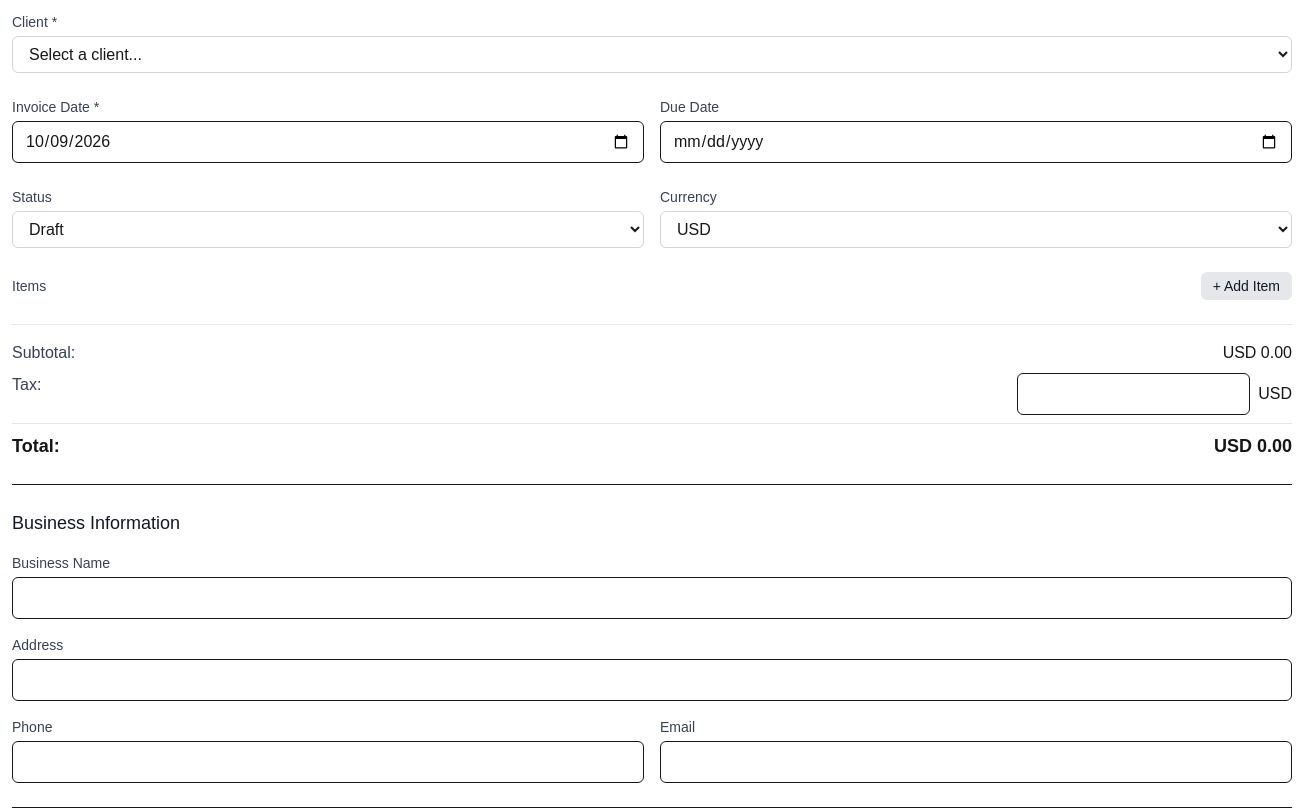
Test: InvoiceForm › allows adding items
The width and height of the screenshot is (1304, 812).
Click the button "+ Add Item" at {"x": 1246, "y": 286}, box [1201,272,1292,300]
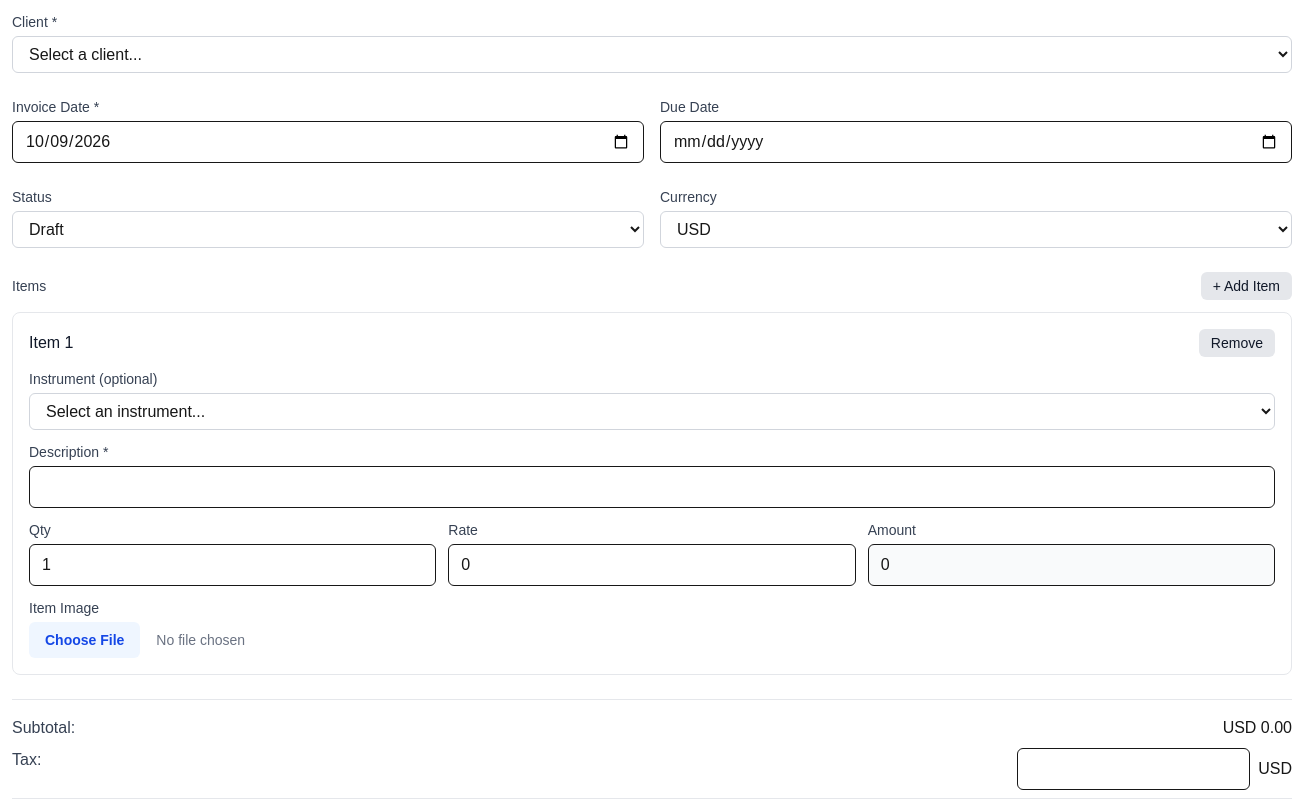
Expected: the heading "Item 1" is shown, [29,331,74,355]
